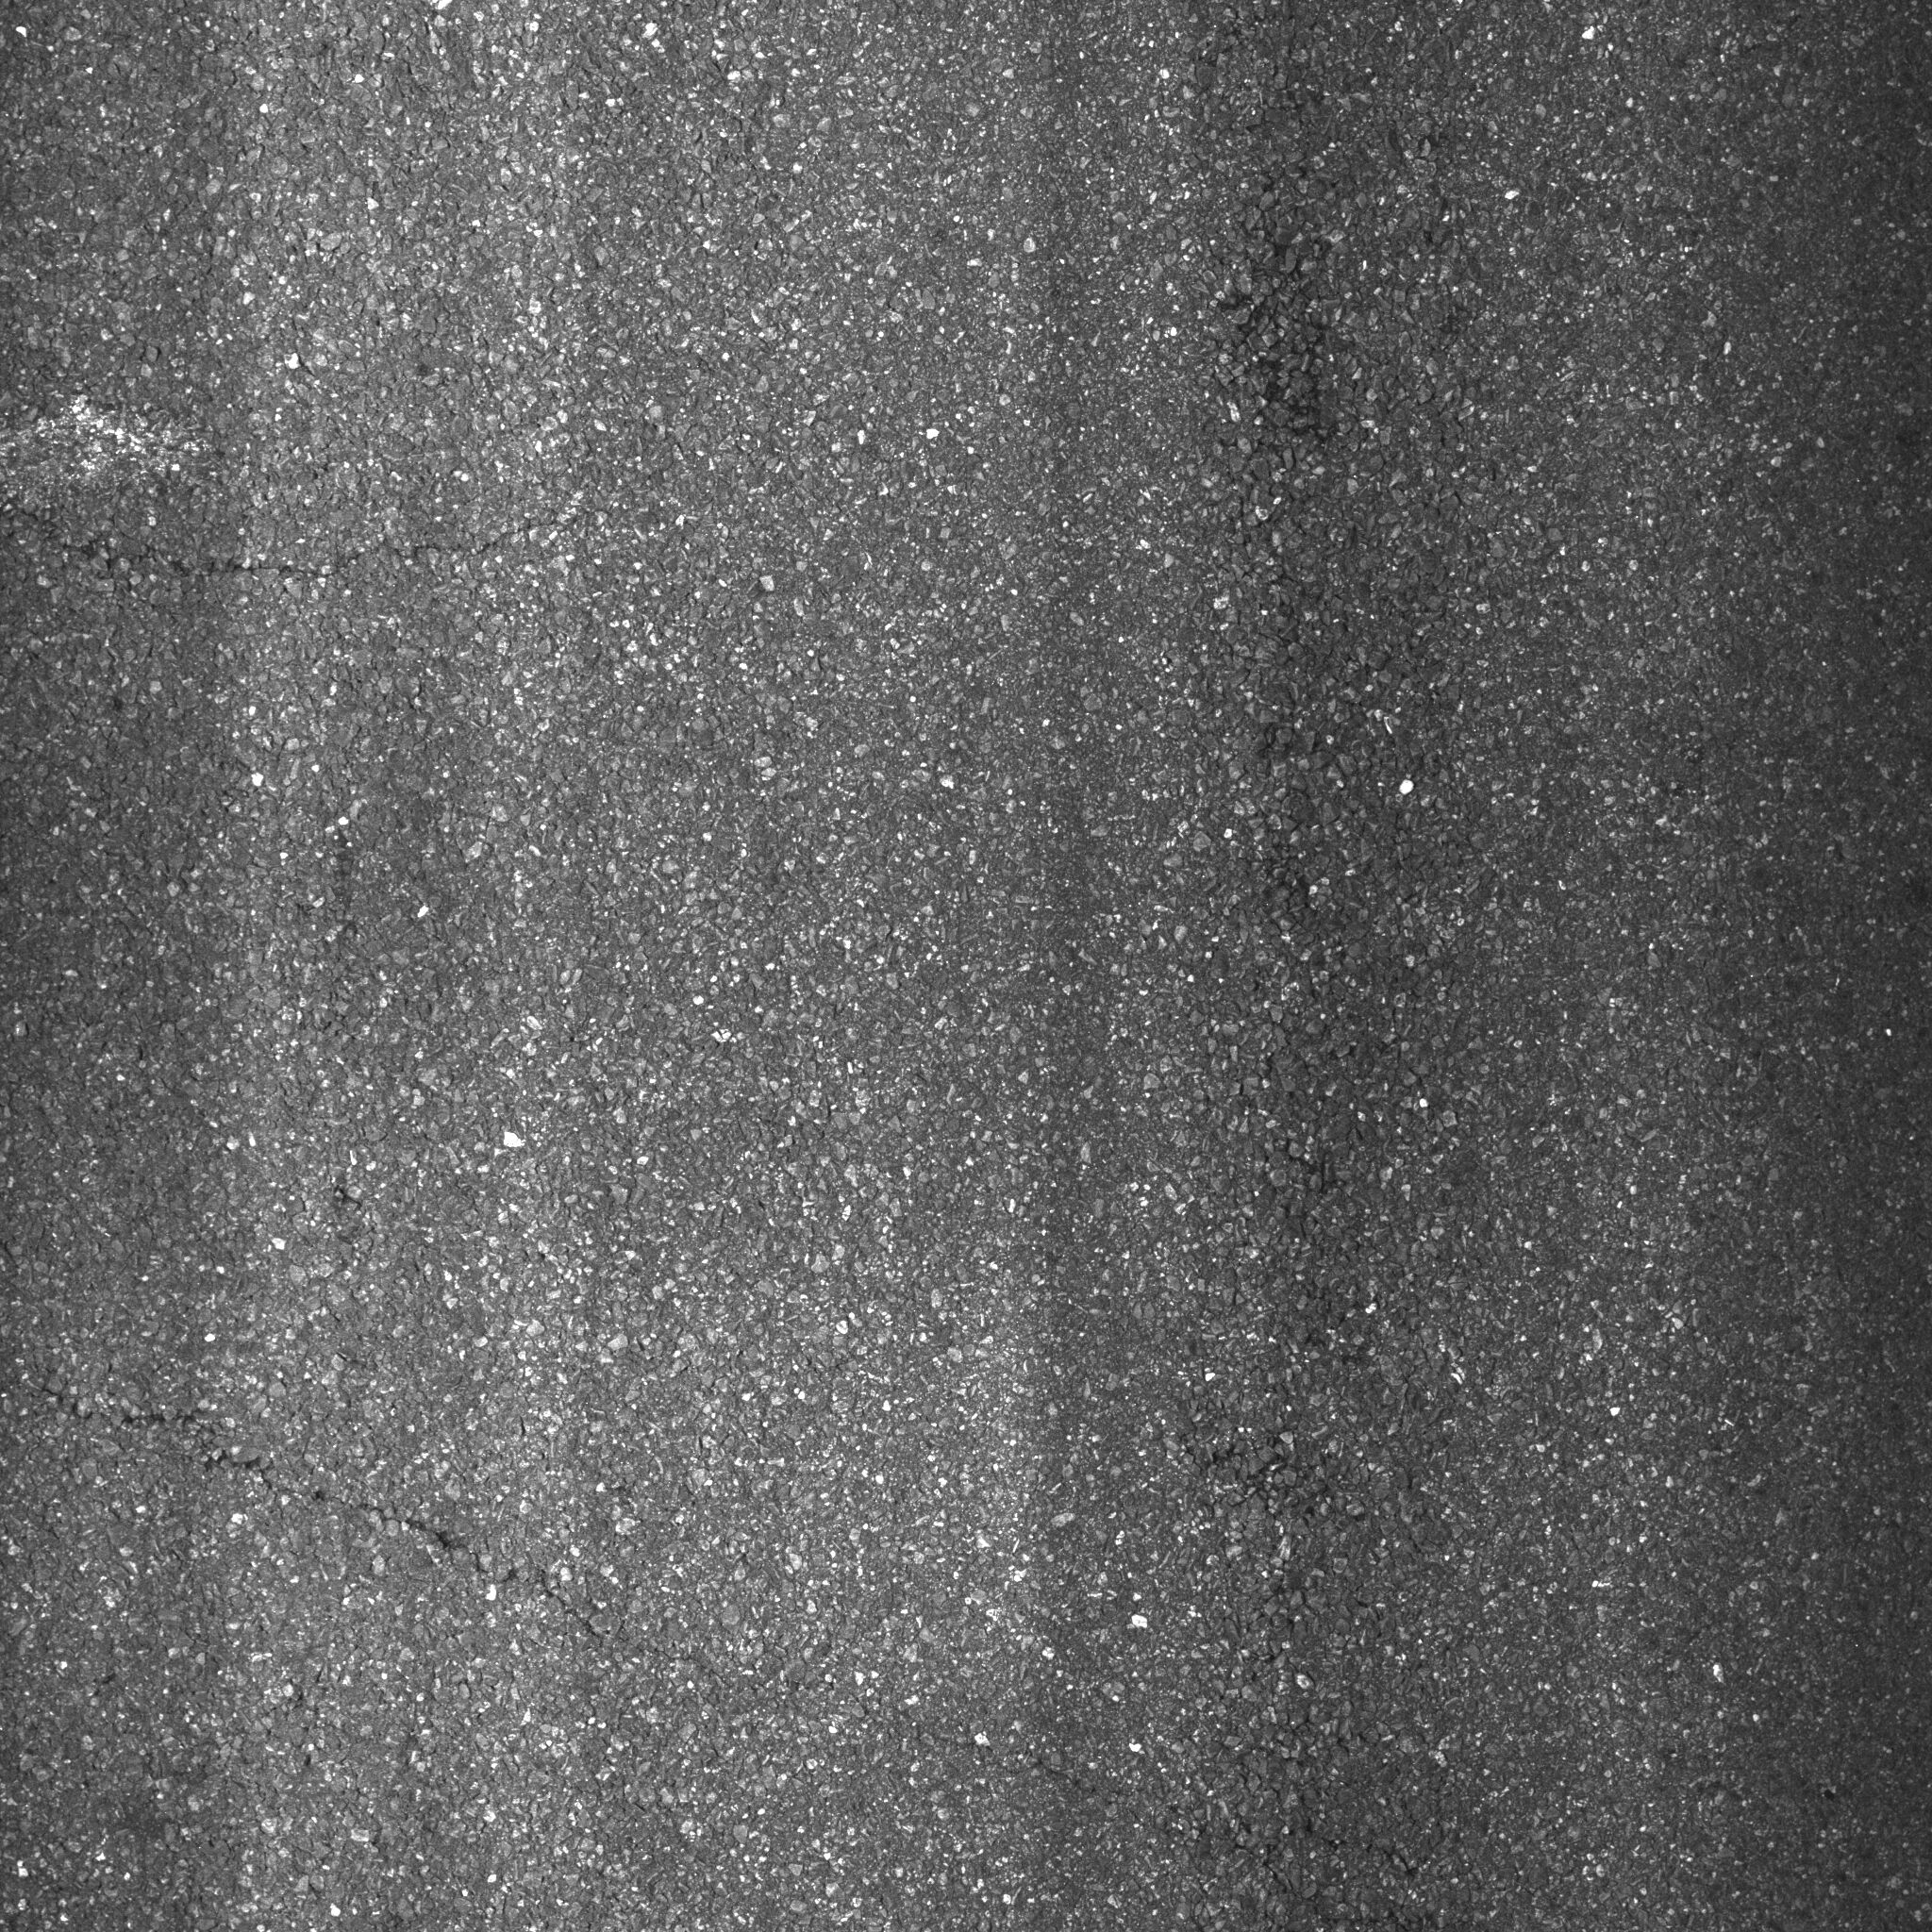transeverse: (11, 1352, 823, 1718), (11, 481, 669, 644)
